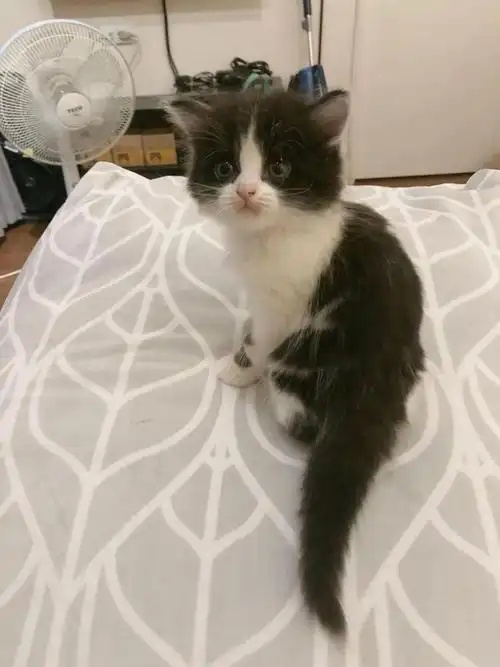奶牛猫: (168, 59, 348, 385)
